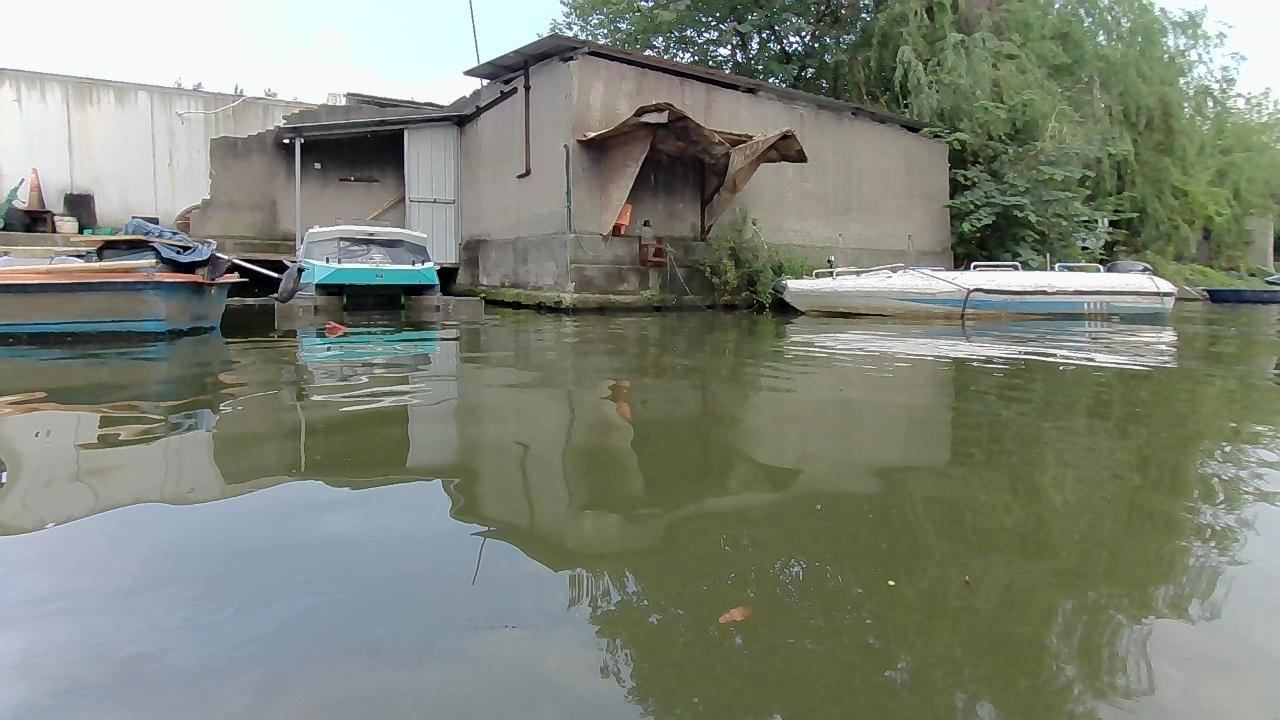bottle: (321, 317, 341, 333)
